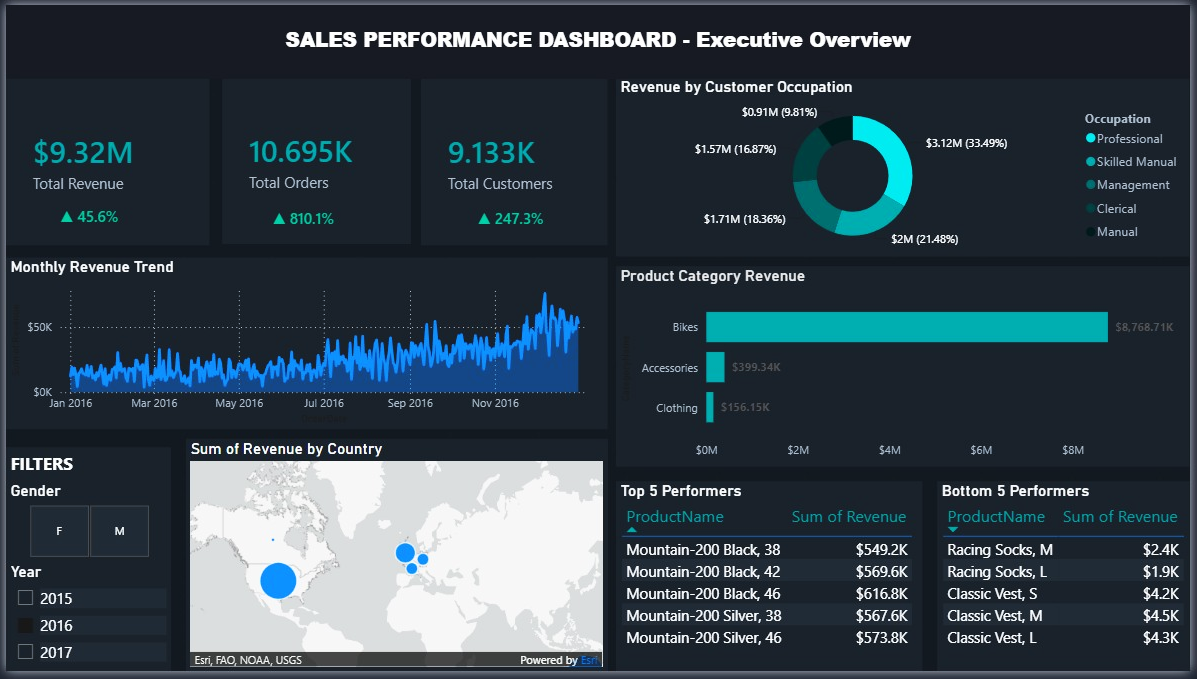

Layout of this report page (visuals, bound fields, positions):
{"tool":"powerbi","page":{"name":"Page 1","canvas":[1280,720],"ordinal":0},"visuals":[{"type":"cardVisual","fields":{"Data":["Count(Sales.OrderNumber)"]},"box":[233.8,78.8,203.8,180],"z":0},{"type":"cardVisual","fields":{"Data":["Count(Sales.CustomerKey)"]},"box":[448.8,80,201.2,180],"z":1000},{"type":"lineChart","title":"Monthly Revenue Trend","fields":{"Y":["Sum(Sales.Revenue)"],"Category":["Sales.OrderDate.Variation.Date Hierarchy.Year"]},"box":[0,272.9,650,185.7],"z":2000},{"type":"clusteredBarChart","title":"Product Category Revenue","fields":{"Category":["AdventureWorks_Product_Categories.CategoryName"],"Y":["Sum(Sales.Revenue)"]},"box":[660,282.9,620,217.1],"z":3000},{"type":"esriVisual","fields":{"Location":["AdventureWorks_Territories.Country"],"Size":["Sum(Sales.Revenue)"]},"box":[194.3,468.6,455.7,251.4],"z":4000},{"type":"tableEx","title":"Bottom 5 Performers","fields":{"Values":["AdventureWorks_Products.ProductName","Sum(Sales.Revenue)"]},"box":[1007.1,514.3,272.9,205.7],"z":5000},{"type":"shape","box":[0,478.3,178.3,241.7],"z":6000},{"type":"donutChart","title":"Revenue by Customer Occupation","fields":{"Category":["updated AdventureWorks_Customer.Occupation"],"Y":["Sum(Sales.Revenue)"]},"box":[660,78.8,620,193.8],"z":7000},{"type":"slicer","title":"Gender","fields":{"Values":["updated AdventureWorks_Customer.Gender"]},"box":[0,514.3,178.6,88.6],"z":8000},{"type":"slicer","title":"Year","fields":{"Values":["DateTable.Year"]},"box":[0,603.3,178.3,116.7],"z":9000},{"type":"tableEx","title":"Top 5 Performers","fields":{"Values":["AdventureWorks_Products.ProductName","Sum(Sales.Revenue)"]},"box":[660,514.3,331.4,205.7],"z":10000},{"type":"textbox","box":[0,0,1280,80],"z":11000},{"type":"cardVisual","fields":{"Data":["Sum(Sales.Revenue)"]},"box":[0,80,220,180],"z":12000},{"type":"textbox","box":[0,478.7,118,35.3],"z":13000},{"type":"cardVisual","fields":{"Data":["Sales.Revenue Growth Display"]},"box":[30,193.8,158.8,68.8],"z":14000},{"type":"cardVisual","fields":{"Data":["Sales.Orders Growth Display"]},"box":[260,203.8,152.5,50],"z":15000},{"type":"cardVisual","fields":{"Data":["Sales.Customers Growth Display"]},"box":[481.2,198.8,137.5,60],"z":16000}]}

Visuals, with their boxes in screenshot pixels (x1, y1, x2, y2), scaled from the page's 1280x720 canvas onto the 1197x679 screenshot:
cardVisual - Count(Sales.OrderNumber): (219,74,409,244)
cardVisual - Count(Sales.CustomerKey): (420,75,608,245)
"Monthly Revenue Trend" lineChart: (0,257,608,432)
"Product Category Revenue" clusteredBarChart: (617,267,1196,472)
esriVisual - AdventureWorks_Territories.Country x Sum(Sales.Revenue): (182,442,608,678)
"Bottom 5 Performers" tableEx: (942,485,1196,678)
shape: (0,451,167,678)
"Revenue by Customer Occupation" donutChart: (617,74,1196,257)
"Gender" slicer: (0,485,167,569)
"Year" slicer: (0,569,167,678)
"Top 5 Performers" tableEx: (617,485,927,678)
textbox: (0,0,1196,75)
cardVisual - Sum(Sales.Revenue): (0,75,206,245)
textbox: (0,451,110,485)
cardVisual - Sales.Revenue Growth Display: (28,183,177,248)
cardVisual - Sales.Orders Growth Display: (243,192,386,239)
cardVisual - Sales.Customers Growth Display: (450,187,579,244)
